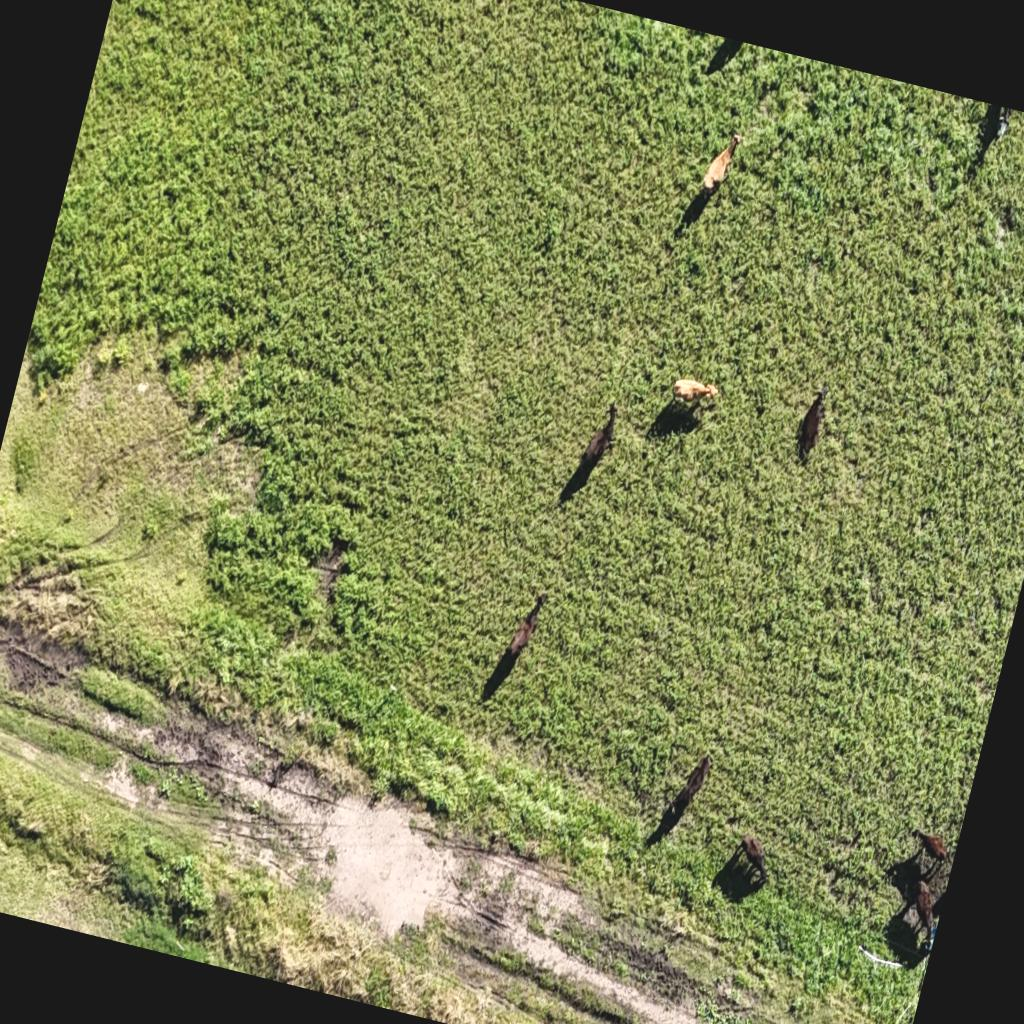cow: (482, 582, 548, 706), (562, 394, 622, 504), (687, 122, 744, 224), (654, 748, 713, 844), (658, 372, 718, 442), (890, 874, 945, 950), (724, 830, 776, 894), (792, 380, 832, 460), (904, 826, 954, 887), (706, 36, 746, 79), (982, 104, 1012, 150)
